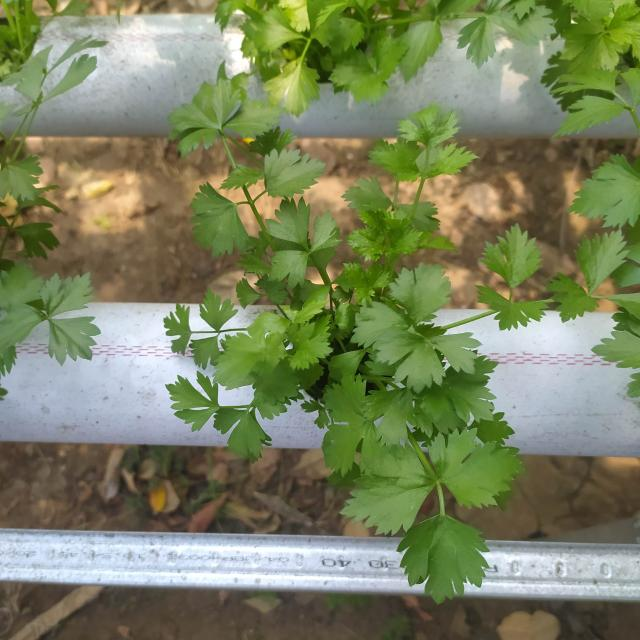Wet Waste: (103, 100, 596, 472)
